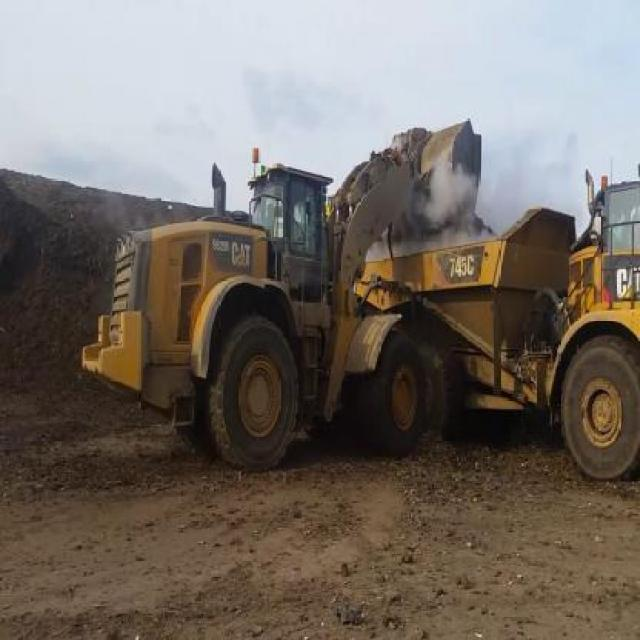Dump Truck: (355, 161, 640, 482)
Loader: (81, 115, 482, 476)
